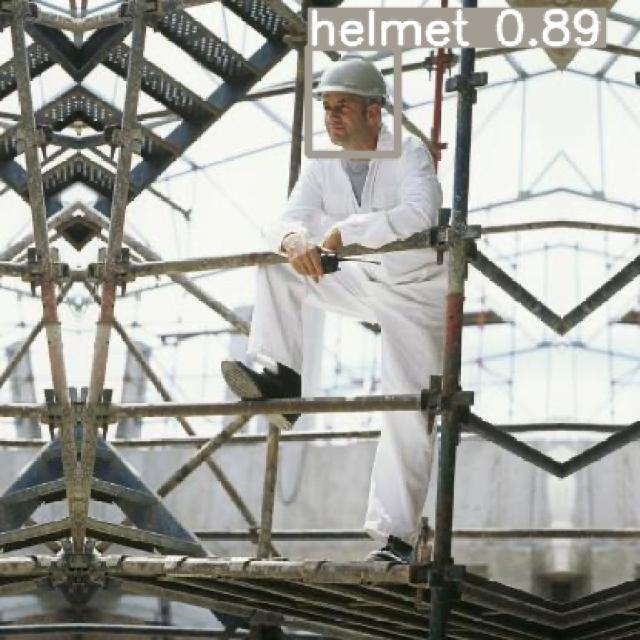white helmet: (311, 54, 401, 109)
